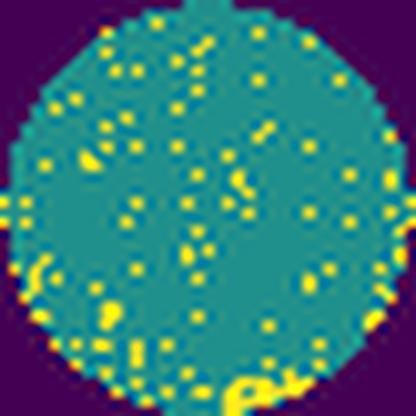Edge-Loc: (225, 360, 316, 415)
